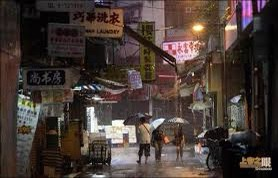people: (137, 116, 149, 165), (152, 124, 165, 166), (172, 124, 186, 163)
